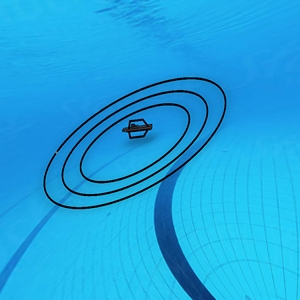circle: (41, 73, 227, 227)
submarine: (123, 118, 155, 140)
